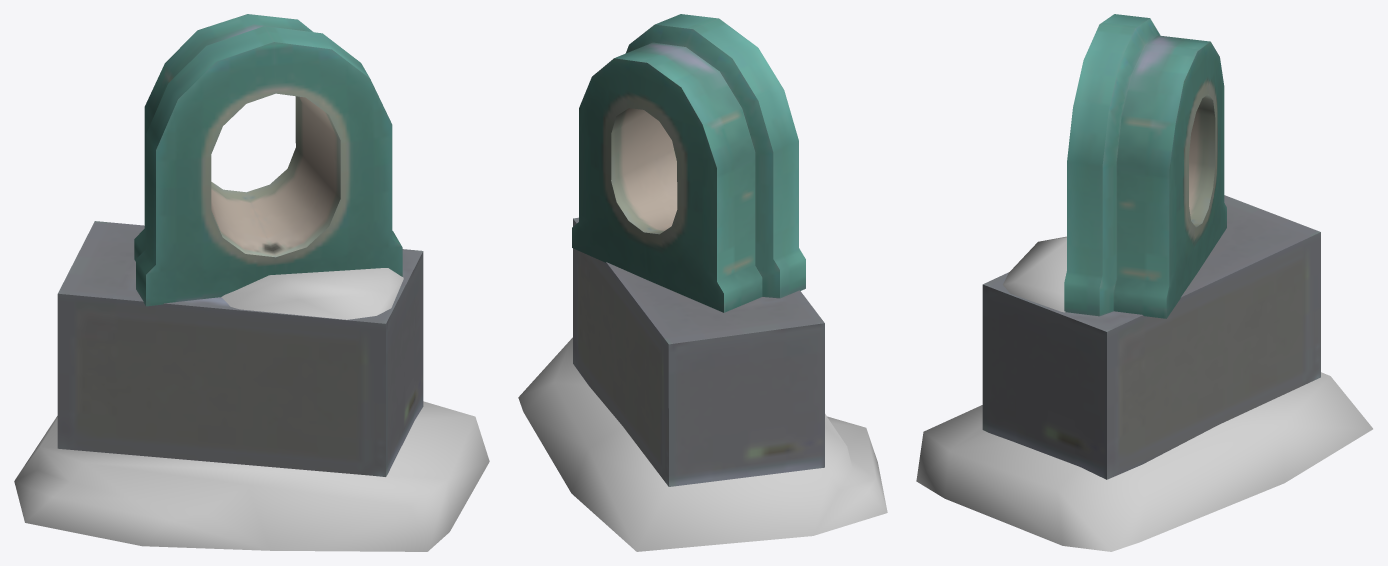
File: pref_sm_city_bornbus03_snow_lv3.fbx
3 views of the same model, side by side, from view 1: azimuth 30°, elevation 25°; view 2: azimuth 150°, elevation 25°; view 3: azimuth 270°, elevation 25° (orthographic). The views are drawn at different scales.
Parts seen in each view (by area): view 1: sm_city_bornbus03_snow_lv3, sm_city_bornbus03b_snow_lv3; view 2: sm_city_bornbus03_snow_lv3, sm_city_bornbus03b_snow_lv3; view 3: sm_city_bornbus03_snow_lv3, sm_city_bornbus03b_snow_lv3.
Boxes of the visible parts, left/top/right/bottom form: sm_city_bornbus03_snow_lv3: left=57, top=14, right=423, bottom=476; sm_city_bornbus03b_snow_lv3: left=14, top=268, right=489, bottom=551; sm_city_bornbus03_snow_lv3: left=572, top=14, right=824, bottom=486; sm_city_bornbus03b_snow_lv3: left=518, top=337, right=887, bottom=551; sm_city_bornbus03_snow_lv3: left=982, top=14, right=1320, bottom=479; sm_city_bornbus03b_snow_lv3: left=916, top=236, right=1372, bottom=551.
Size of the model in its own units: 2.11 by 2.15 by 2.07.
